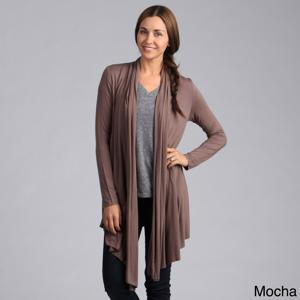C_cardigan sweater: (82, 60, 234, 257)
